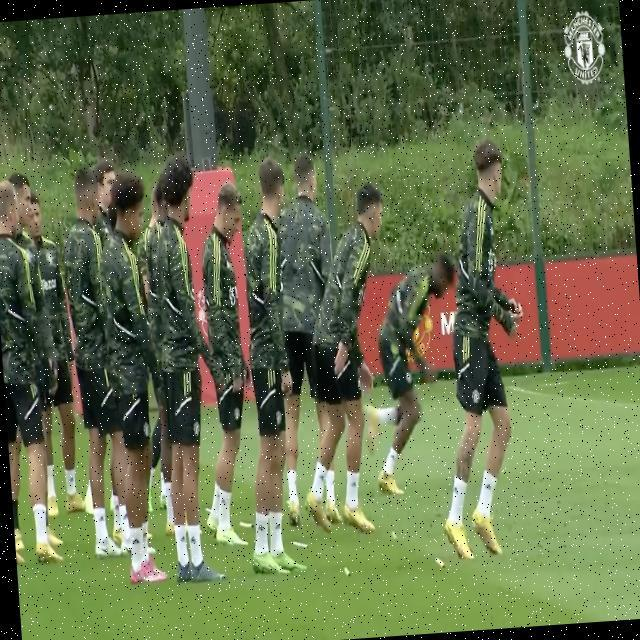Adidas: (483, 477, 494, 494), (257, 521, 266, 536), (132, 533, 141, 546), (190, 533, 199, 545)
